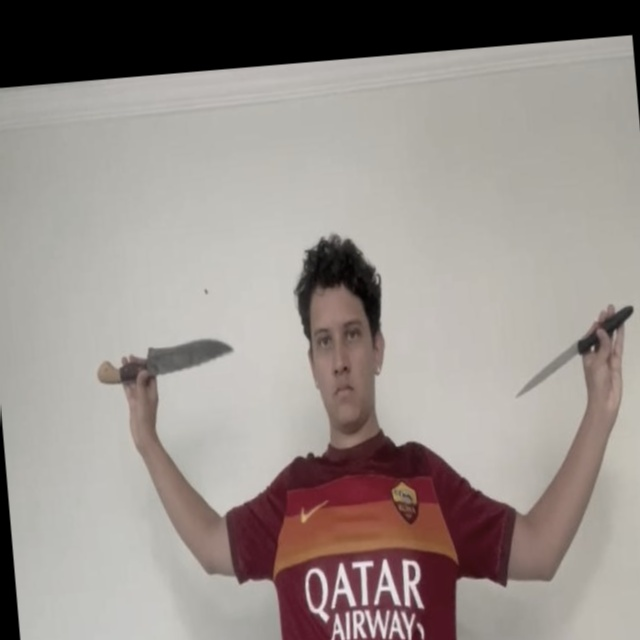Sharp-Object: (510, 339, 583, 397), (143, 335, 236, 377)
